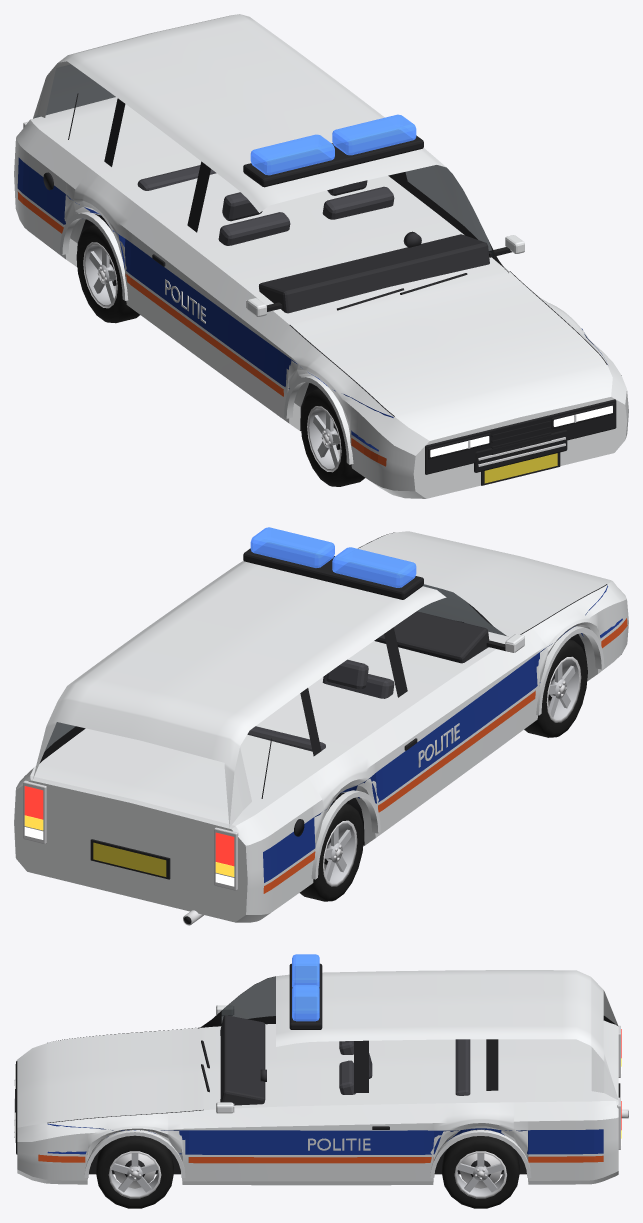
File: police.glb
3 renders of one model, top to bottom at view 1: azimuth 30°, elevation 25°; view 2: azimuth 150°, elevation 25°; view 3: azimuth 270°, elevation 25°, orthographic. The views are drawn at different scales.
Parts seen in each view (by area): view 1: cabin_roof, tub, hood, nose, door_R, dash, livery_blue, fender_R, quarter_R, cabin_glass, wheel_FR, wheel_RR (+16 smaller); view 2: cabin_roof, tail, tub, hood, door_R, livery_blue, quarter_R, fender_R, wheel_RR, wheel_FR, dash, lightbar (+17 smaller); view 3: cabin_roof, tub, hood, door_L, livery_blue, fender_L, quarter_L, wheel_FL, wheel_RL, nose, dash, tail (+11 smaller).
Part boxes in pixels (<box>): cabin_roof: <box>33,14,445,212</box>; tub: <box>39,106,509,324</box>; hood: <box>291,271,606,416</box>; nose: <box>379,365,628,498</box>; door_R: <box>99,187,289,412</box>; dash: <box>259,234,489,313</box>; livery_blue: <box>17,157,607,451</box>; fender_R: <box>273,325,394,493</box>; quarter_R: <box>23,129,114,266</box>; cabin_glass: <box>33,64,494,256</box>; wheel_FR: <box>300,388,364,486</box>; wheel_RR: <box>76,222,139,323</box>; cabin_roof: <box>33,561,446,827</box>; tail: <box>14,763,270,922</box>; tub: <box>41,635,506,815</box>; hood: <box>358,532,605,639</box>; door_R: <box>334,649,525,845</box>; livery_blue: <box>263,585,622,882</box>; quarter_R: <box>255,760,350,920</box>; fender_R: <box>517,585,622,728</box>; wheel_RR: <box>300,800,363,901</box>; wheel_FR: <box>524,639,587,737</box>; dash: <box>374,611,489,663</box>; lightbar: <box>243,543,423,599</box>; cabin_roof: <box>276,970,618,1100</box>; tub: <box>203,1024,594,1109</box>; hood: <box>47,1027,203,1122</box>; door_L: <box>203,1103,474,1185</box>; livery_blue: <box>47,1123,603,1154</box>; fender_L: <box>47,1110,203,1184</box>; quarter_L: <box>474,1101,594,1184</box>; wheel_FL: <box>96,1135,173,1208</box>; wheel_RL: <box>442,1136,519,1208</box>; nose: <box>17,1043,47,1183</box>; dash: <box>220,1015,265,1105</box>; tail: <box>594,1020,618,1183</box>.
Size of the model in its own units: 1.91 by 1.61 by 4.91.
